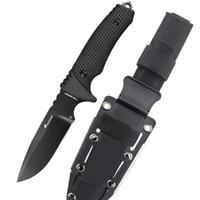knife: (11, 1, 133, 189)
